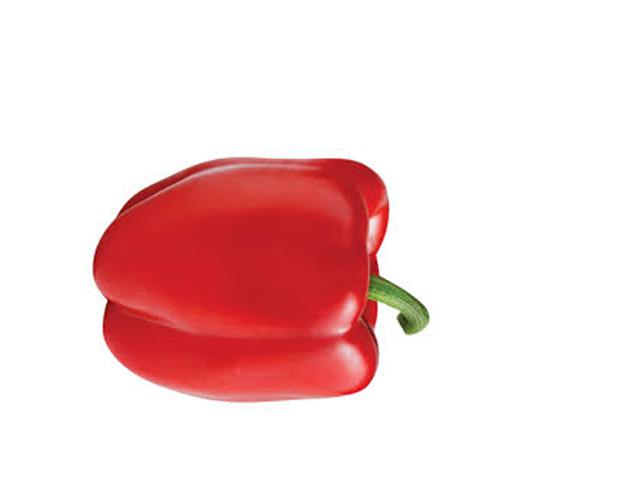bell_pepper: (82, 140, 428, 414)
